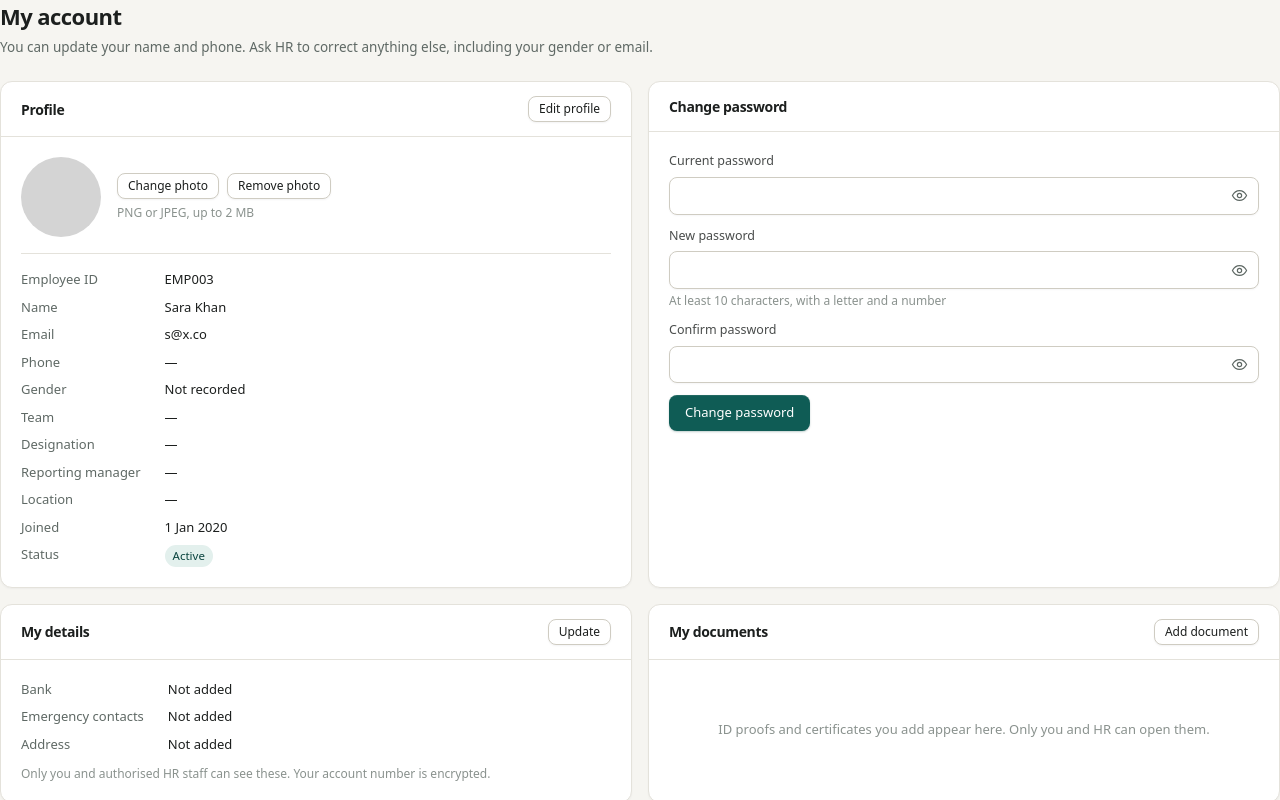
profile photo › removes it and goes back to initials
The image size is (1280, 800).
Click the button "Remove photo" at (279, 186), box [227, 173, 331, 199]
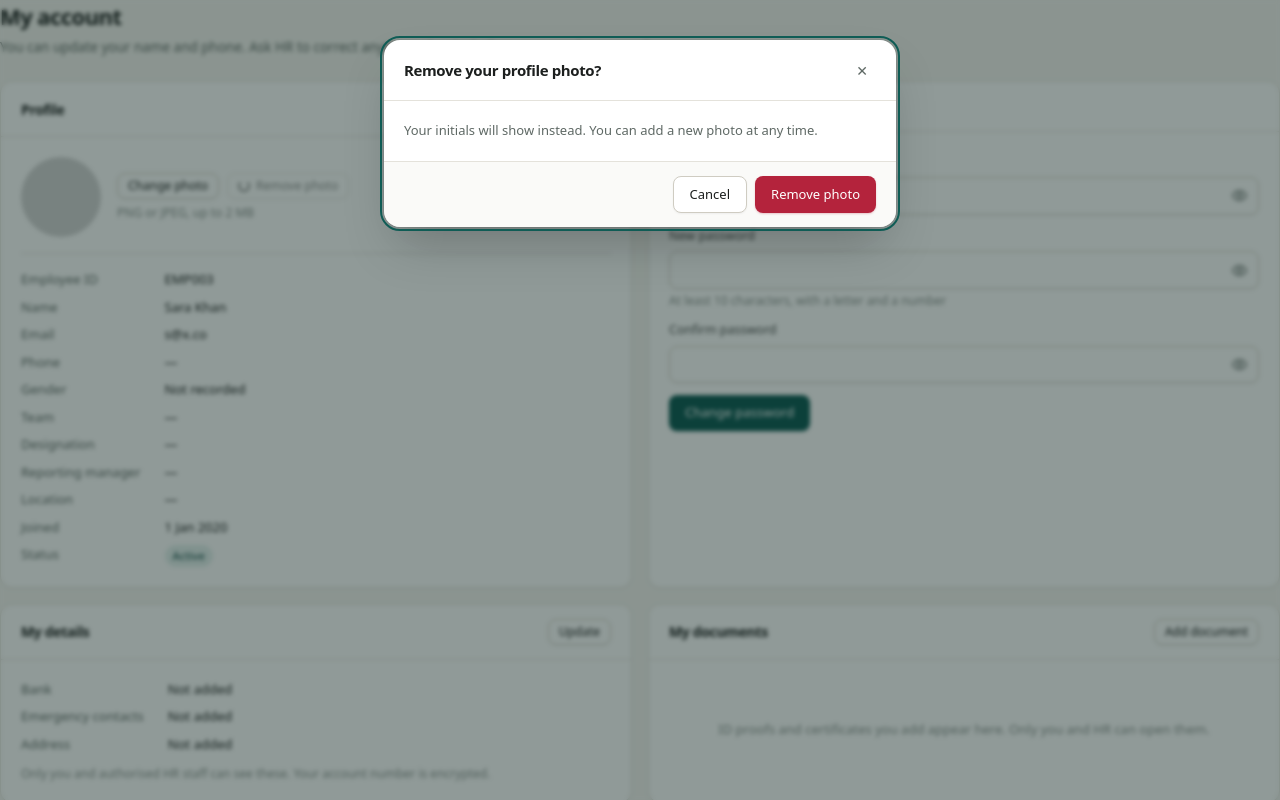
Click the button "Remove photo" at (816, 194), box [755, 176, 876, 213]
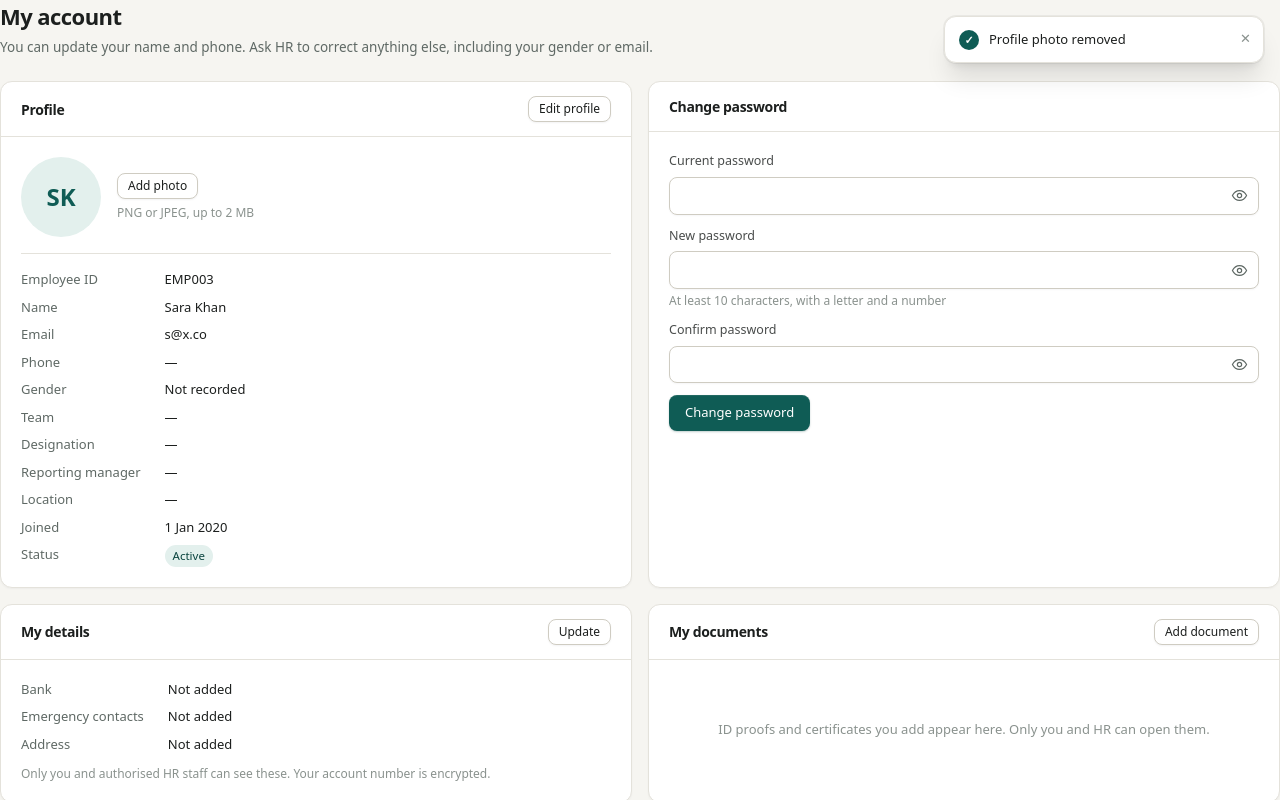
Now the button "Add photo" is shown, box [117, 173, 198, 199]
